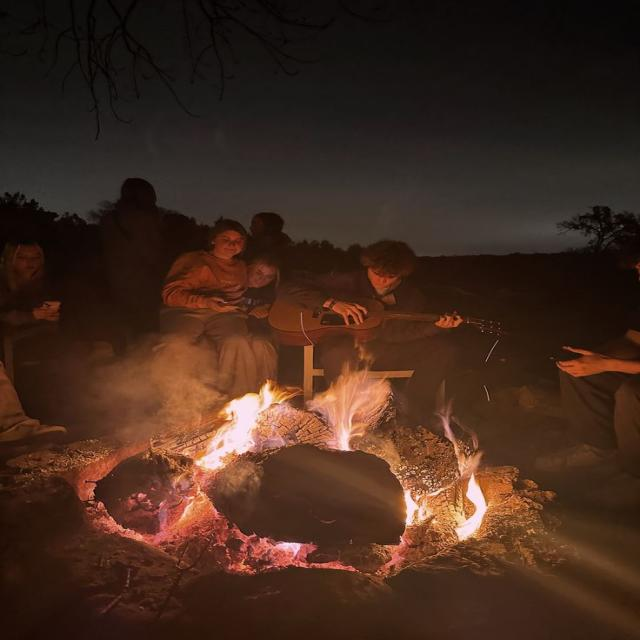fire: (308, 360, 392, 451), (198, 380, 272, 467), (454, 473, 487, 538), (405, 489, 440, 525)
